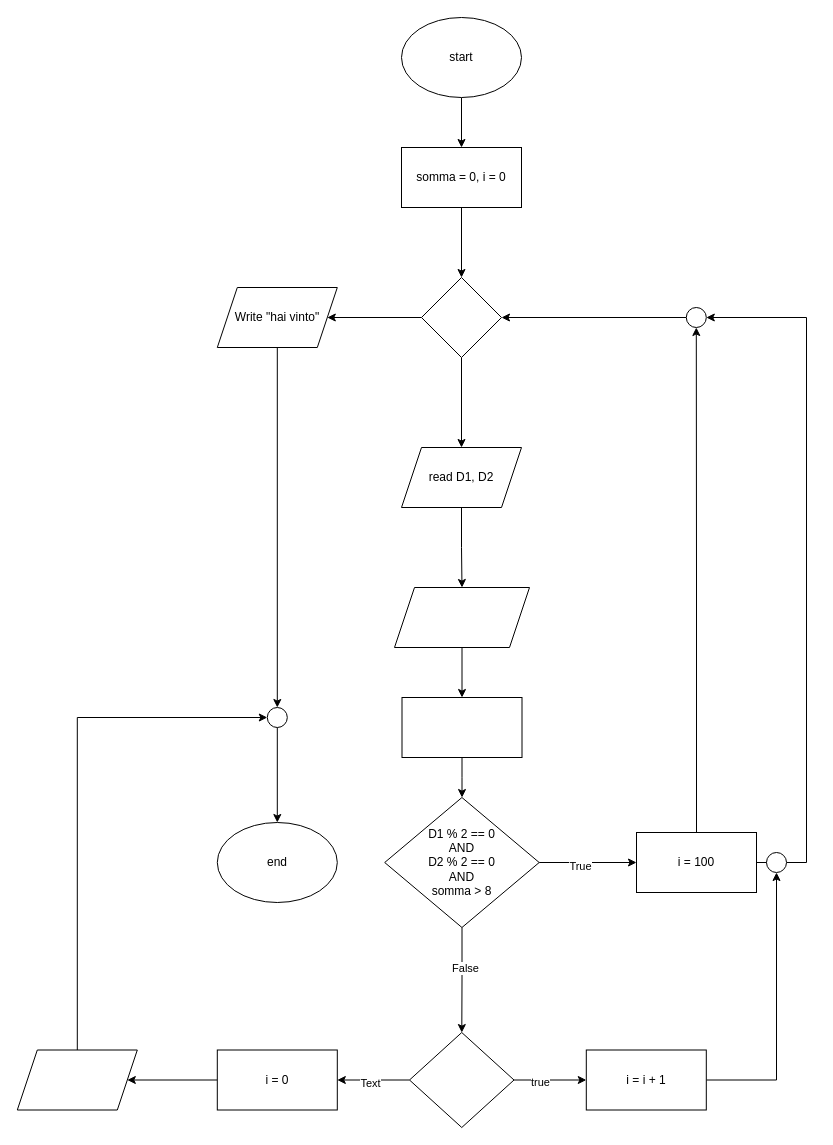
The diagram is 833 pixels wide and 1145 high, and some of its shapes have lost their labels. The box of each missing label's shape, as (x1, y1, x2, y2) in pixels:
D1 == 6 OR somma == 7: (408, 1032, 514, 1128)
i < 100: (420, 276, 502, 358)
somma = D1 + D2: (401, 696, 522, 758)
Write "hai perso": (16, 1049, 137, 1110)
Write "lancia i dadi": (394, 586, 530, 648)
